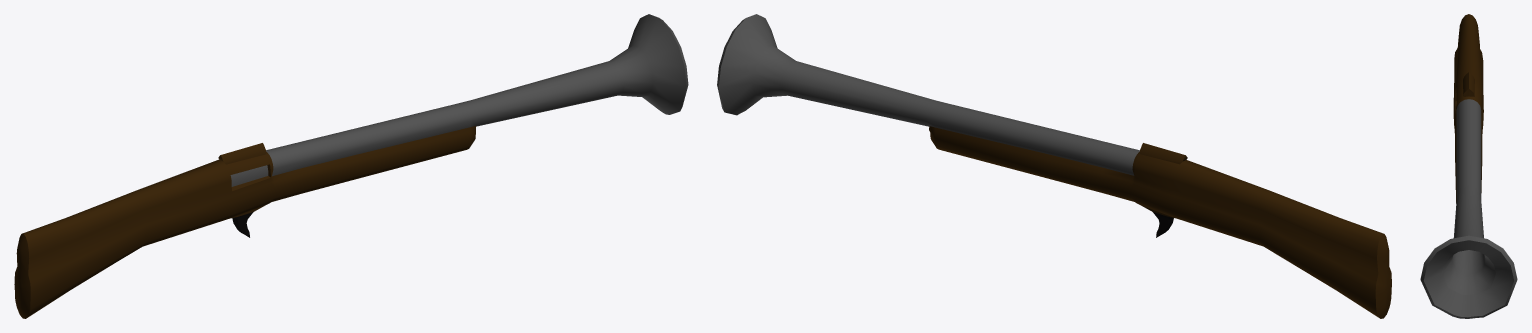
Rendered from Blunderbuss.FBX.
The picture shows the model from 3 angles, left to right: view 1: azimuth 30°, elevation 25°; view 2: azimuth 150°, elevation 25°; view 3: azimuth 270°, elevation 25°; orthographic projection. The views are drawn at different scales.
Parts seen in each view (by area): view 1: Cylinder001; view 2: Cylinder001; view 3: Cylinder001.
Part boxes in pixels (<box>): Cylinder001: <box>14,14,688,318</box>; Cylinder001: <box>717,14,1391,318</box>; Cylinder001: <box>1420,14,1517,318</box>.
Bounding box in the file's own units: 216 × 46.29 × 31.63.
